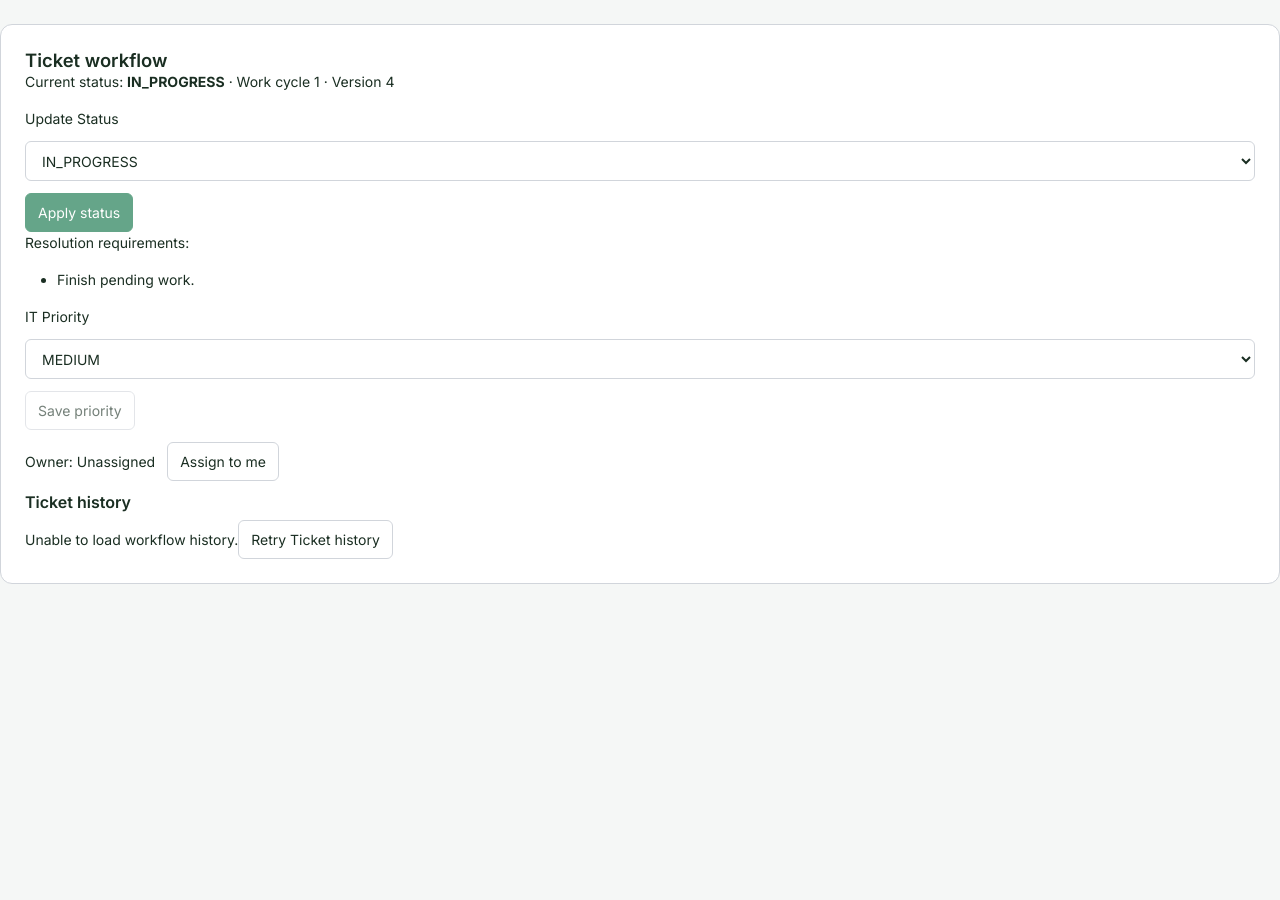
Test: Ticket workflow controls › shows a safe retry state for history failure
Expected: the text "Unable to load workflow history." is shown, x1=25 y1=531 x2=238 y2=548
Click the button "Retry Ticket history" at (316, 540), box x1=238 y1=520 x2=393 y2=559
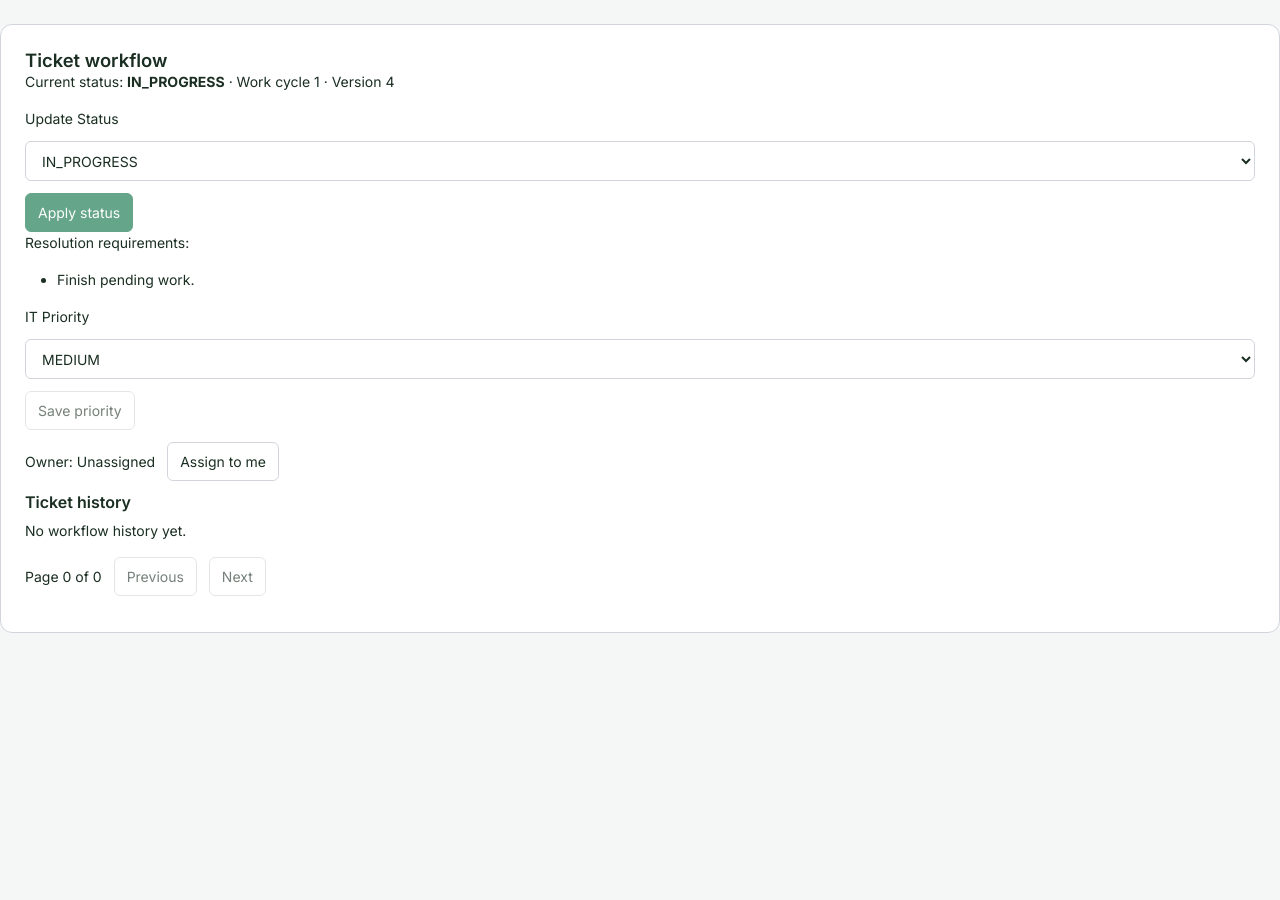
Expected: the text "No workflow history yet." is shown, x1=25 y1=522 x2=186 y2=539
